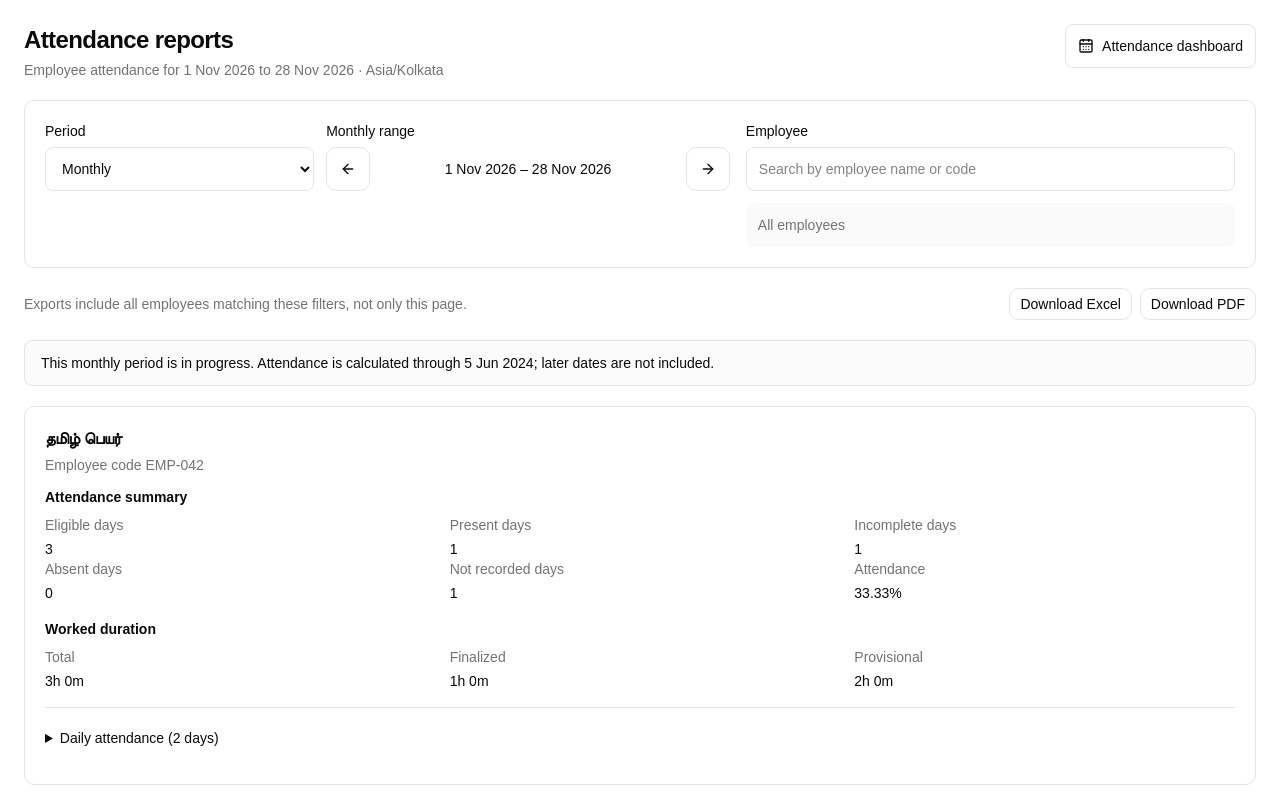
Scenario: attendance report page › preserves report scope when a weekly range would exceed year 9999
This screenshot has width=1280, height=800.
Select "Custom date range" in the dropdown labelled "Period": (180, 169) [45, 147, 314, 191]
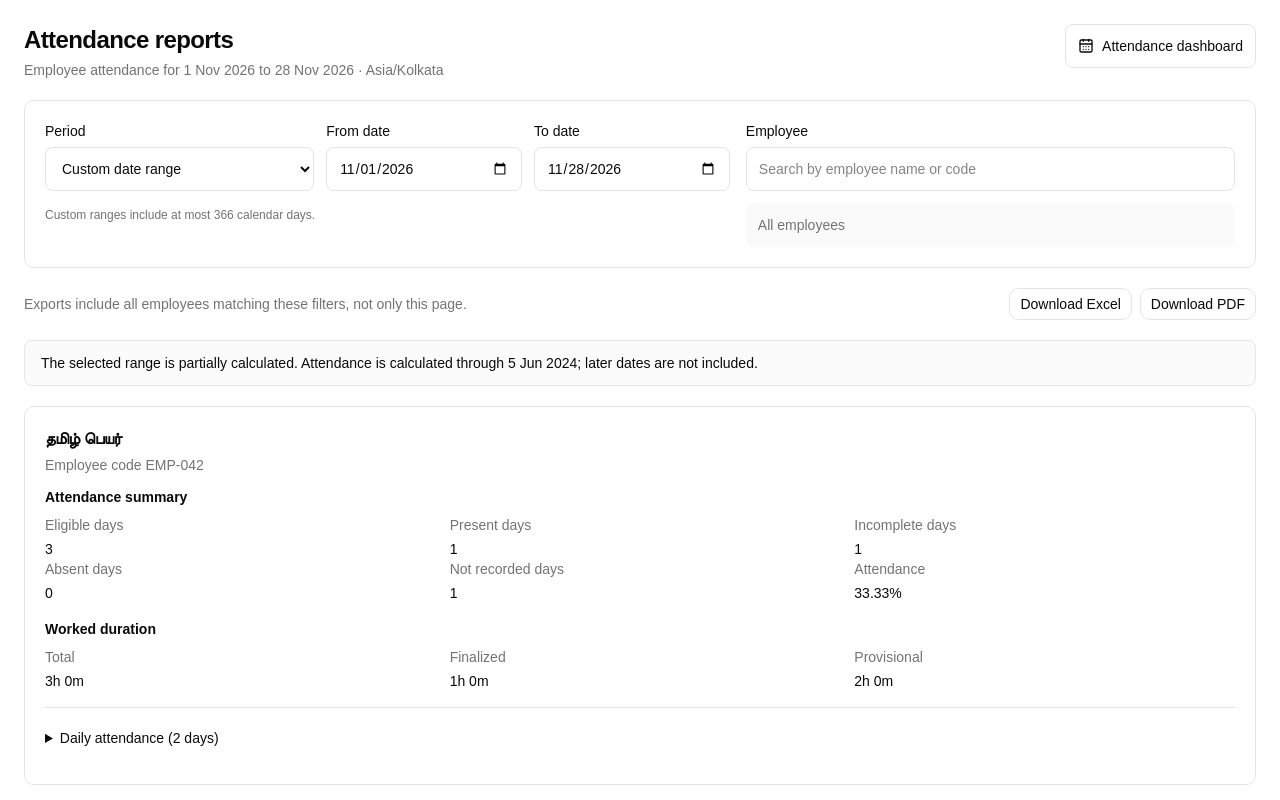
In the date field labelled "From date": (424, 169) [326, 147, 522, 191], type "9999-12-31"
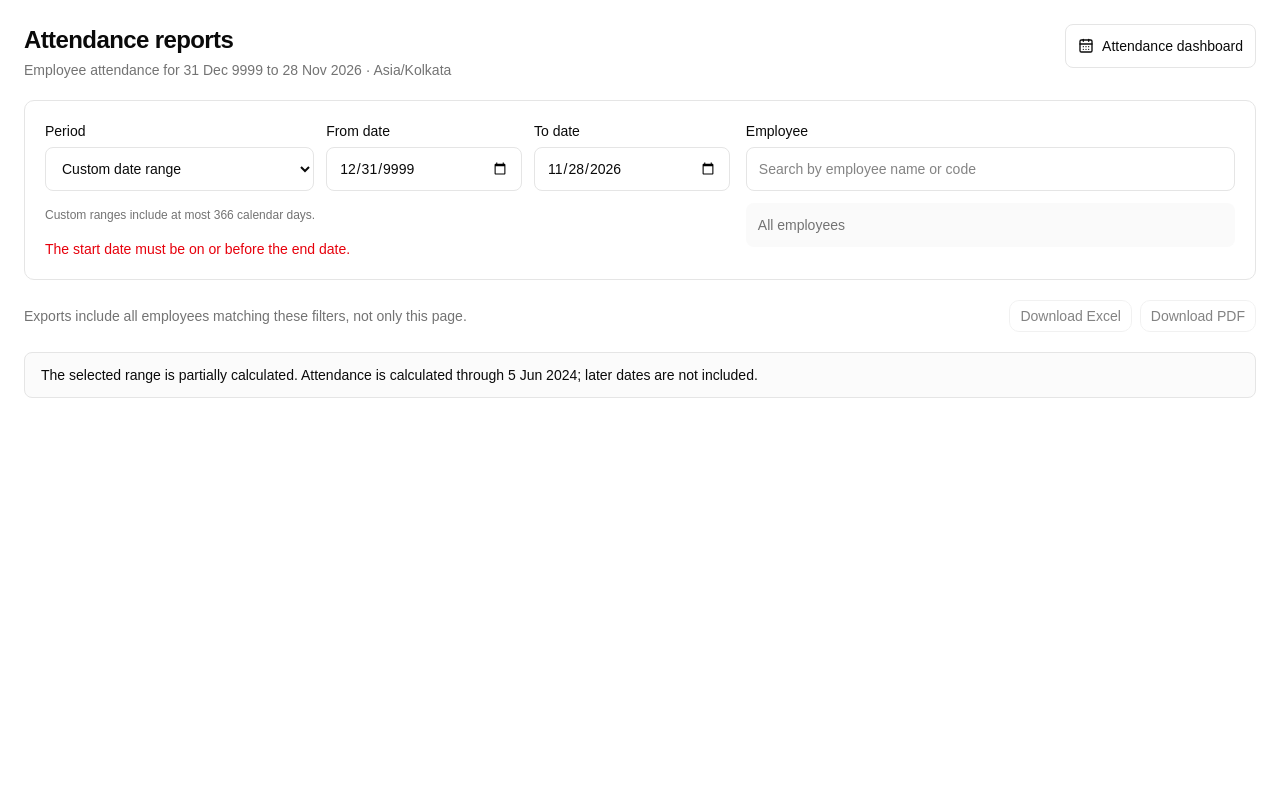
In the date field labelled "To date": (632, 169) [534, 147, 730, 191], type "9999-12-31"
(page scrolled)
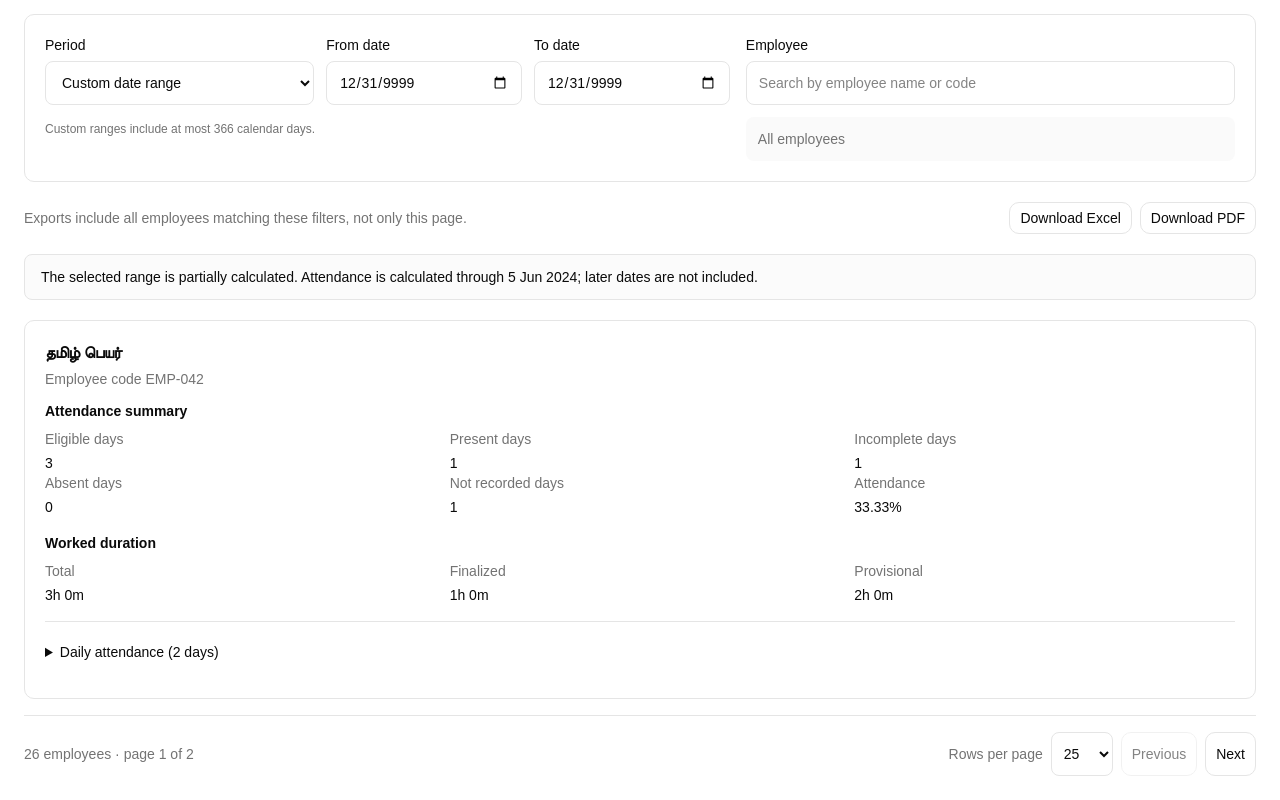
Click the button "Next": (1231, 754) [1205, 732, 1256, 776]
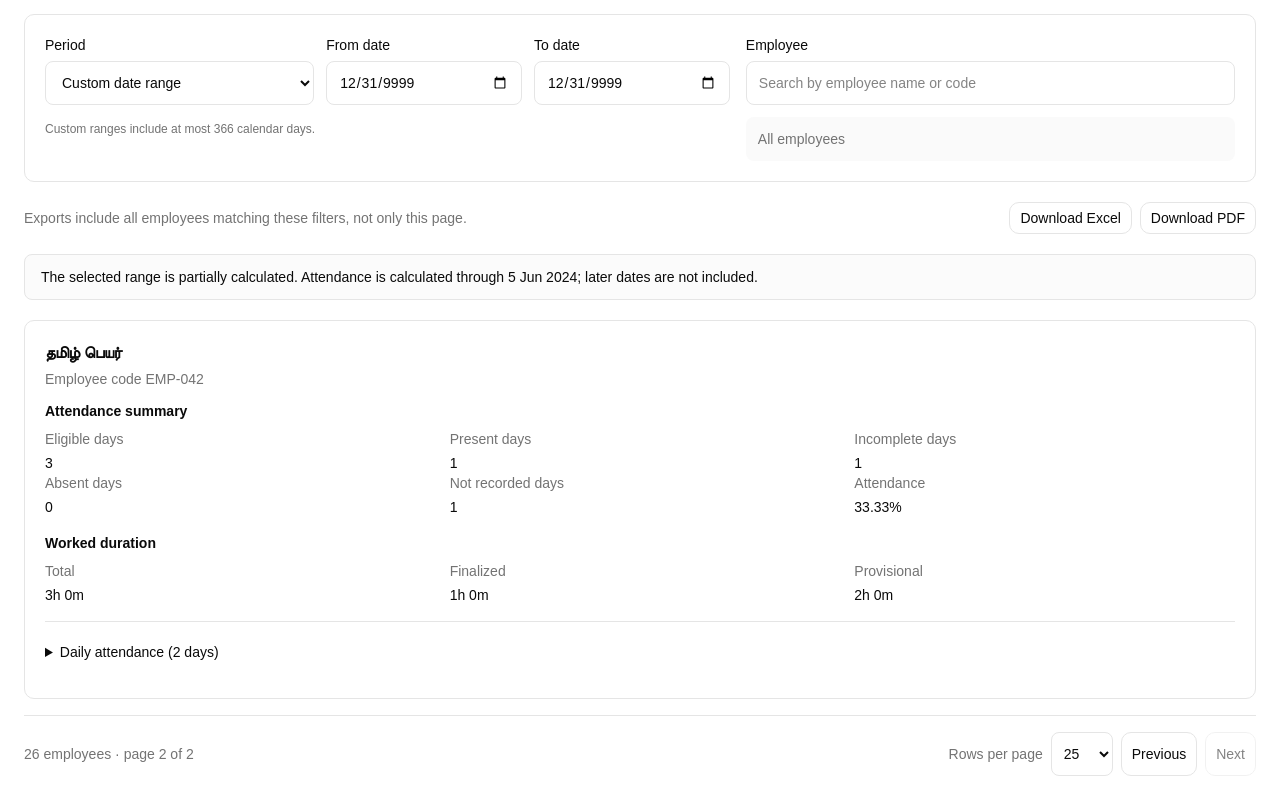
Select "Weekly" in the dropdown labelled "Period": (180, 83) [45, 61, 314, 105]
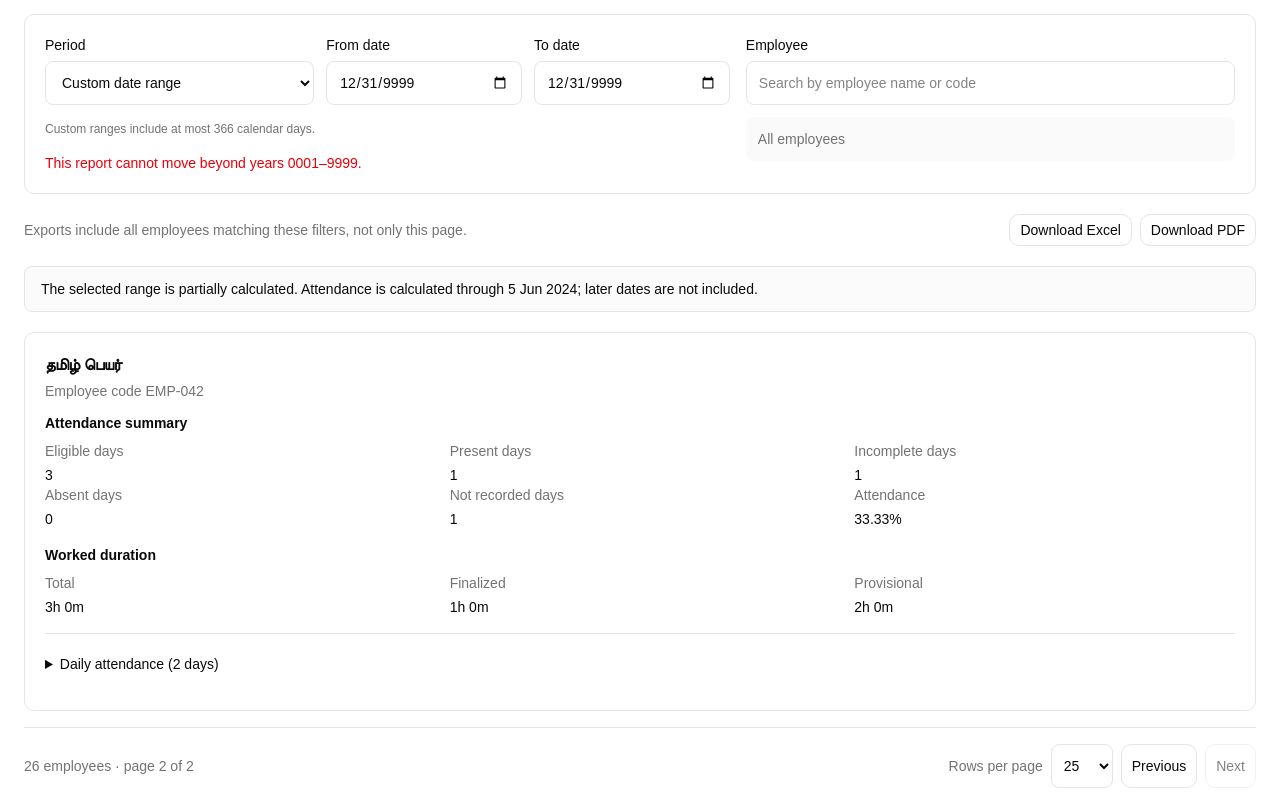
expect the text "26 employees · page 2 of 2" is shown: met, box [24, 756, 194, 776]
expect the message "This report cannot move beyond years 0001–9999." is shown: met, box [45, 155, 362, 171]
